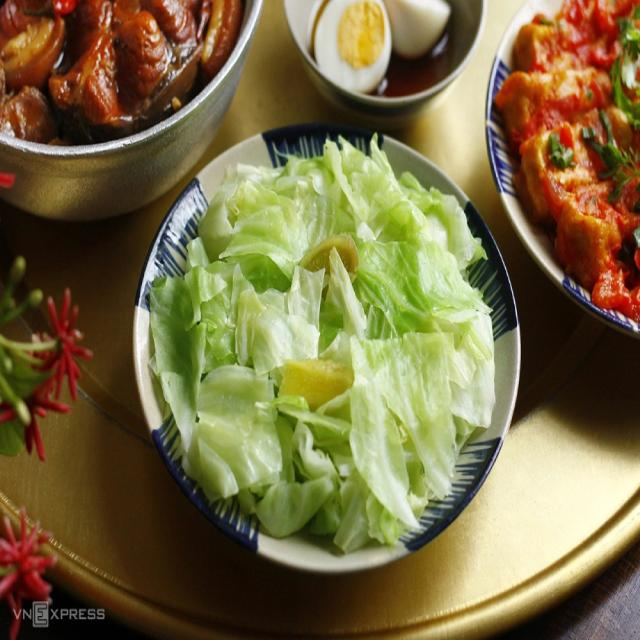bap cai luoc: (150, 143, 494, 549)
trung luoc: (314, 0, 392, 91)
